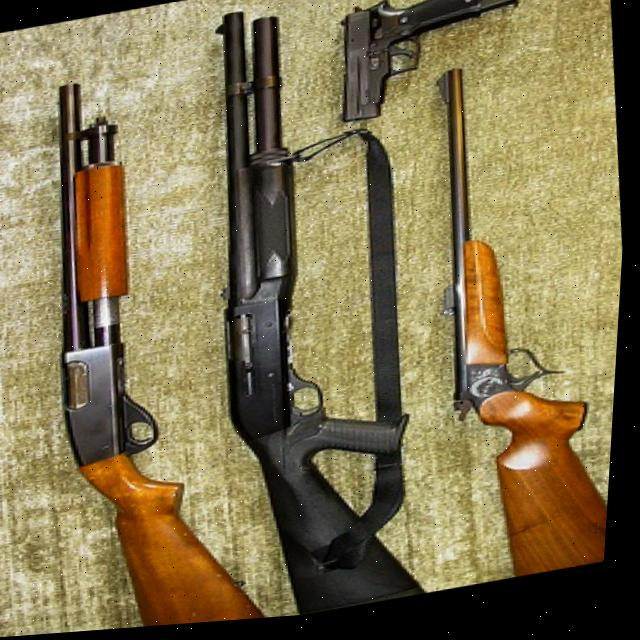firearm: (186, 0, 468, 627), (17, 51, 301, 637), (408, 48, 636, 598)
pistol: (328, 0, 535, 131)
